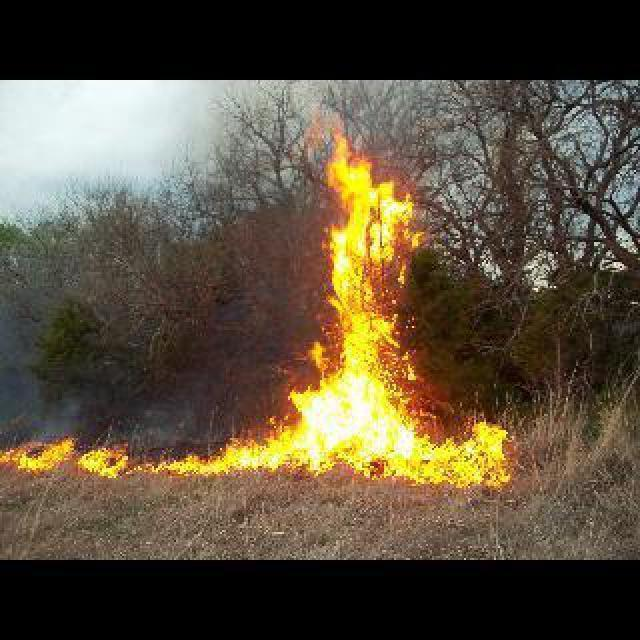Fire: (8, 112, 516, 490)
